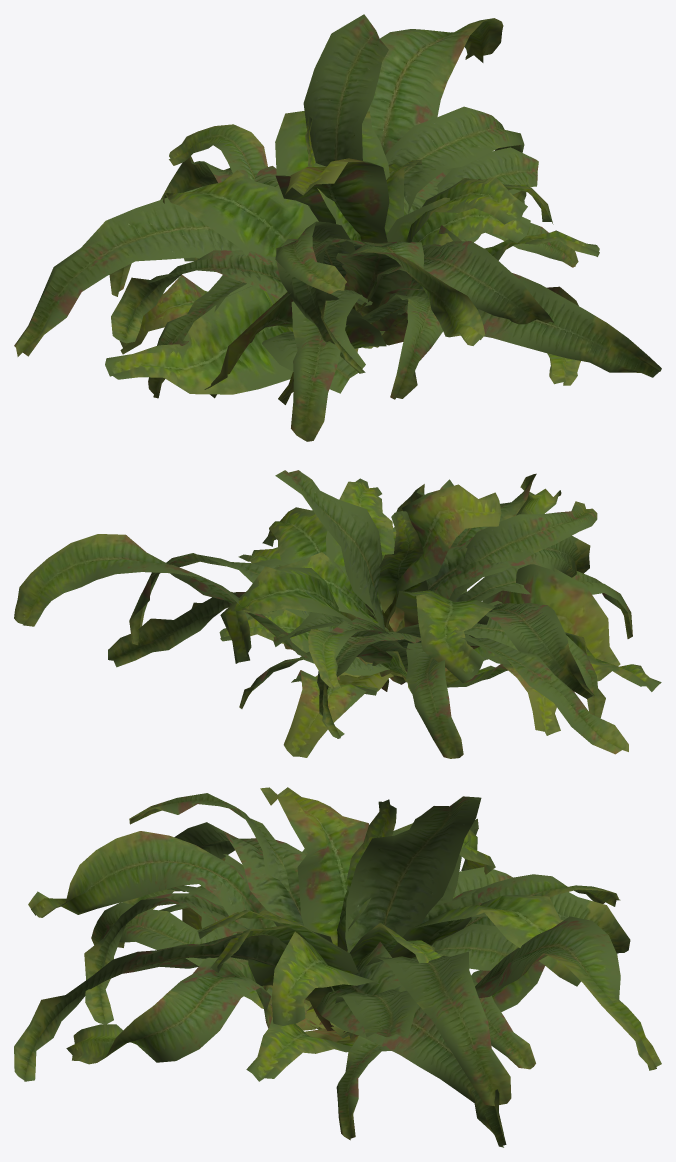
Rendered from fern_02.glb.
3 renders of one model, top to bottom at view 1: azimuth 30°, elevation 25°; view 2: azimuth 150°, elevation 25°; view 3: azimuth 270°, elevation 25°, orthographic. The views are drawn at different scales.
Parts seen in each view (by area): view 1: fern2_b, fern2_c; view 2: fern2_b, fern2_c; view 3: fern2_b, fern2_c.
Boxes of the visible parts, box(x1,y1,x2,y2) form: fern2_b: box(14, 14, 661, 441); fern2_c: box(105, 115, 580, 404); fern2_b: box(14, 470, 632, 757); fern2_c: box(108, 479, 661, 758); fern2_b: box(14, 787, 661, 1140); fern2_c: box(66, 793, 620, 1147).
Bounding box in the file's own units: 1.29 × 0.556 × 1.16.
Materials: 2 (2 with a texture image).
